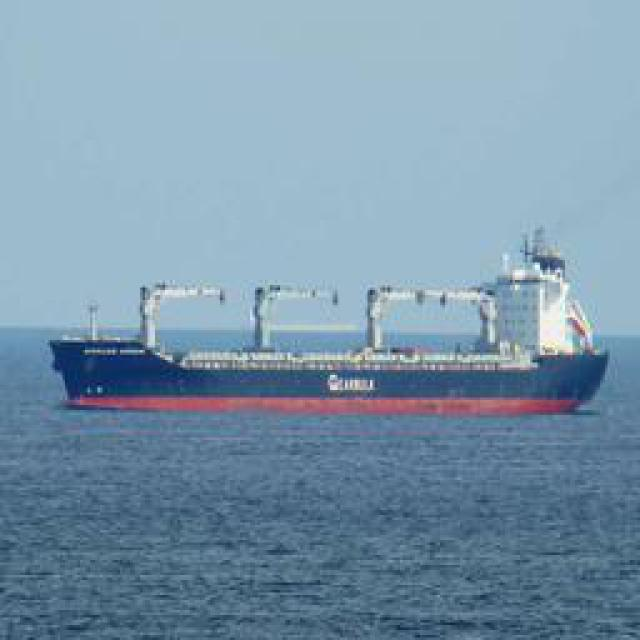Ship: (53, 240, 611, 420)
